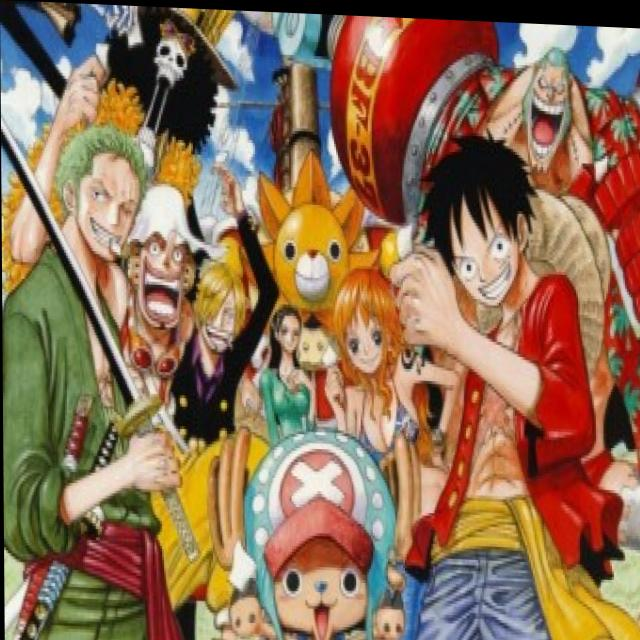Blook: (113, 4, 204, 160)
Chyopa: (223, 392, 401, 640)
Franky: (513, 42, 588, 172)
Luffy: (424, 129, 541, 308)
Nami: (328, 250, 406, 381)
NicoRobin: (267, 293, 307, 370)
Sangdi: (194, 269, 255, 356)
Usopp: (128, 177, 200, 350)
Zoro: (67, 120, 157, 262)
